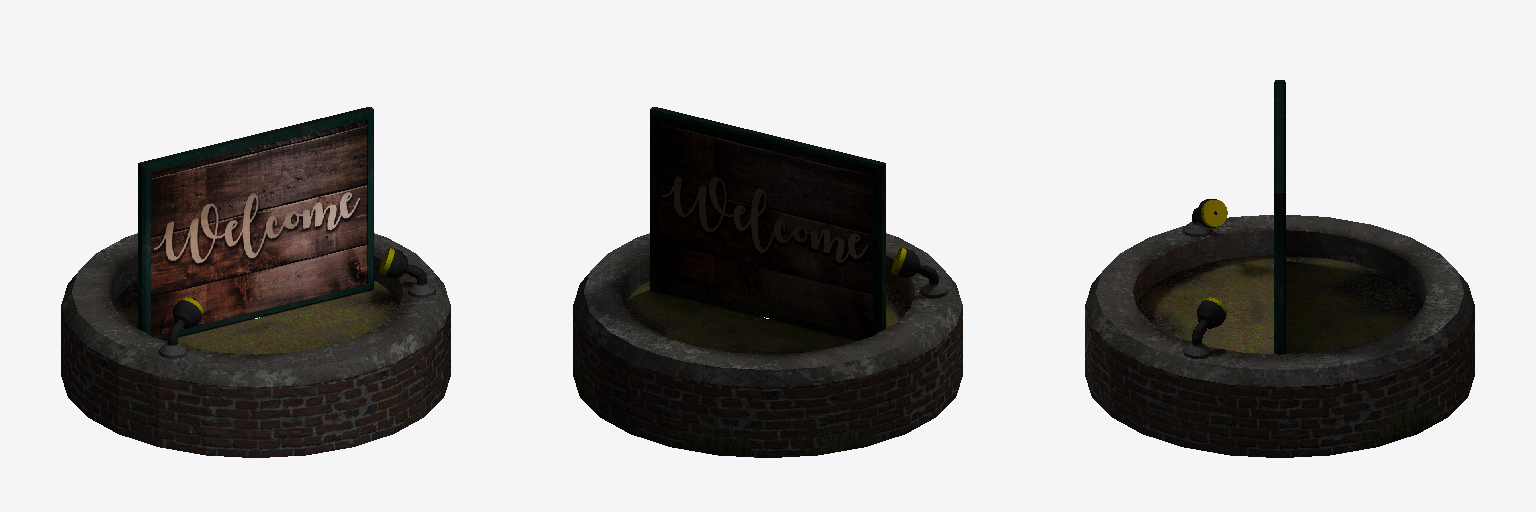
The picture shows the model from 3 angles: view 1: azimuth 30°, elevation 25°; view 2: azimuth 150°, elevation 25°; view 3: azimuth 270°, elevation 25°; orthographic projection.
Visible parts, largest first — view 1: group_5_ID41, group_1_ID13, group_2_ID20, group_0_ID4, group_3_ID27, group_12_ID90; view 2: group_4_ID34, group_1_ID13, group_2_ID20, group_0_ID4, group_3_ID27; view 3: group_2_ID20, group_1_ID13, group_0_ID4, group_3_ID27, group_8_ID62, group_13_ID97.
Boxes of the visible parts, box(x1,y1,x2,y2) form: group_5_ID41: box(151, 120, 367, 336); group_1_ID13: box(61, 306, 450, 457); group_2_ID20: box(61, 233, 450, 387); group_0_ID4: box(112, 281, 399, 354); group_3_ID27: box(138, 107, 373, 339); group_12_ID90: box(173, 300, 201, 328); group_4_ID34: box(656, 120, 872, 336); group_1_ID13: box(573, 306, 962, 457); group_2_ID20: box(573, 233, 962, 387); group_0_ID4: box(624, 281, 911, 354); group_3_ID27: box(650, 107, 885, 339); group_2_ID20: box(1085, 215, 1474, 387); group_1_ID13: box(1085, 306, 1474, 457); group_0_ID4: box(1136, 255, 1423, 353); group_3_ID27: box(1274, 80, 1285, 354); group_8_ID62: box(1197, 300, 1225, 328); group_13_ID97: box(1200, 200, 1227, 226).
Size of the model in its own units: 2.29 by 1.55 by 2.29.
1 materials, 1 textured.